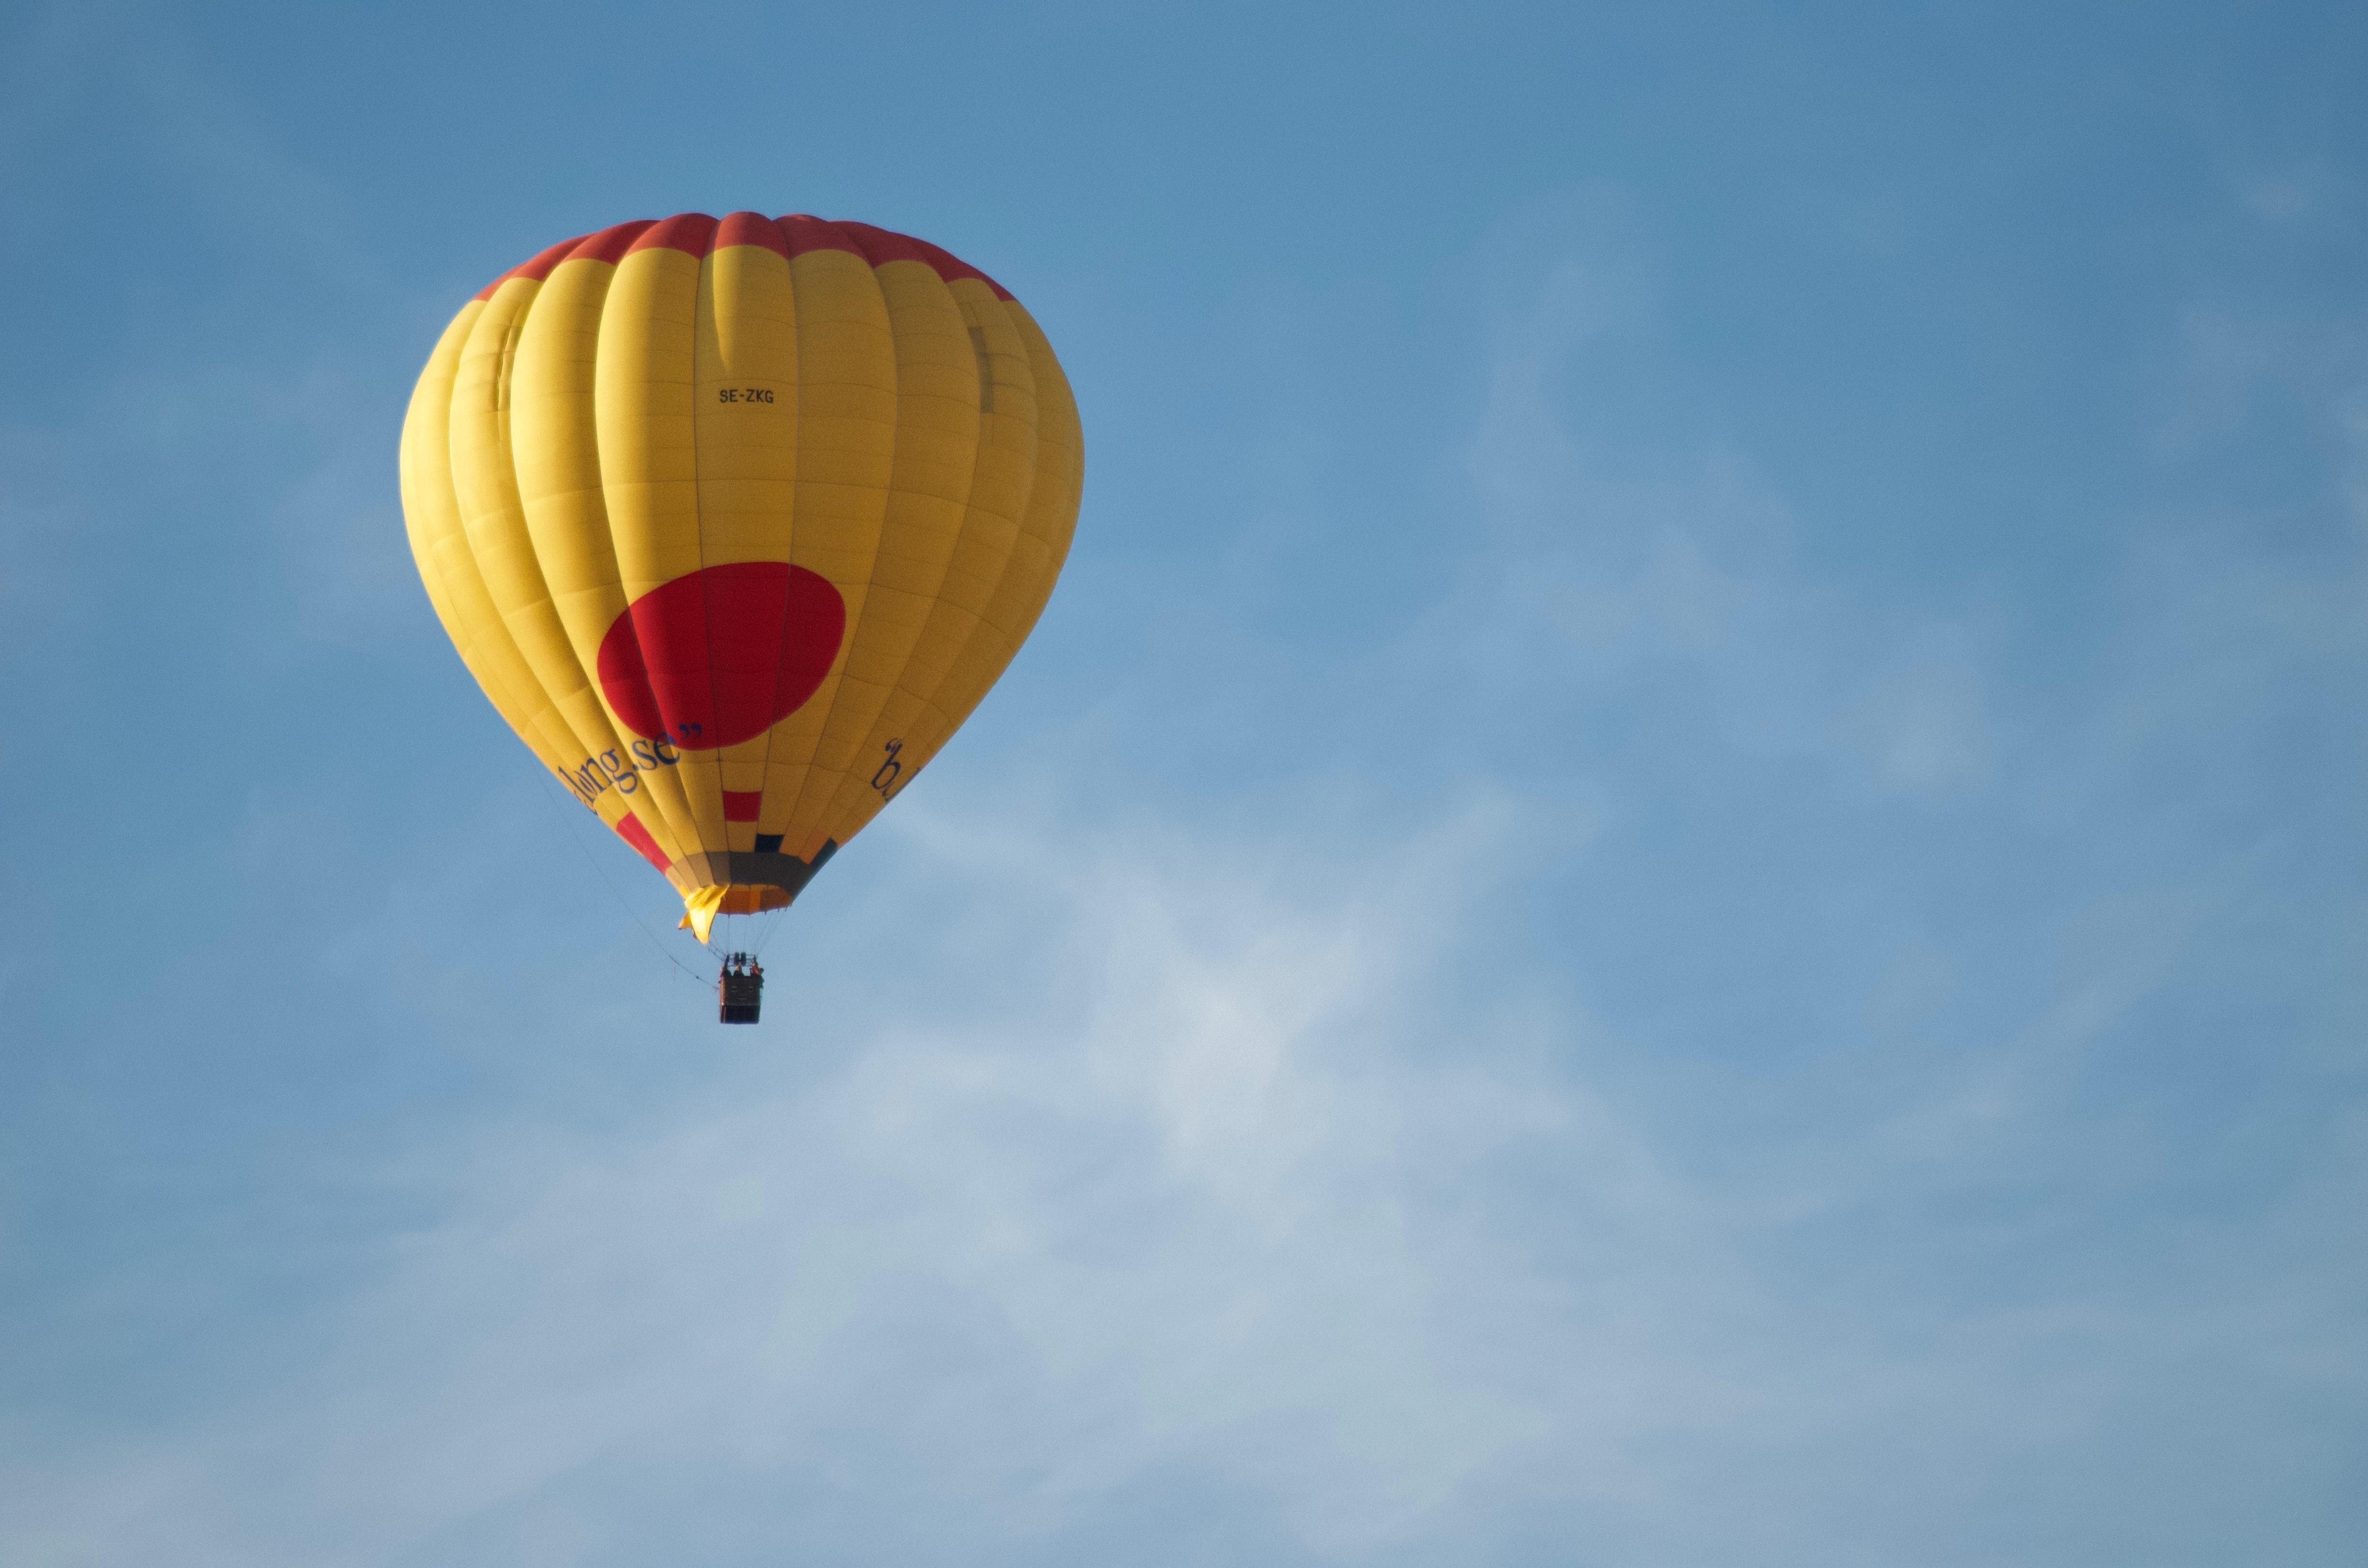hot air ballon: (404, 208, 1083, 1024)
